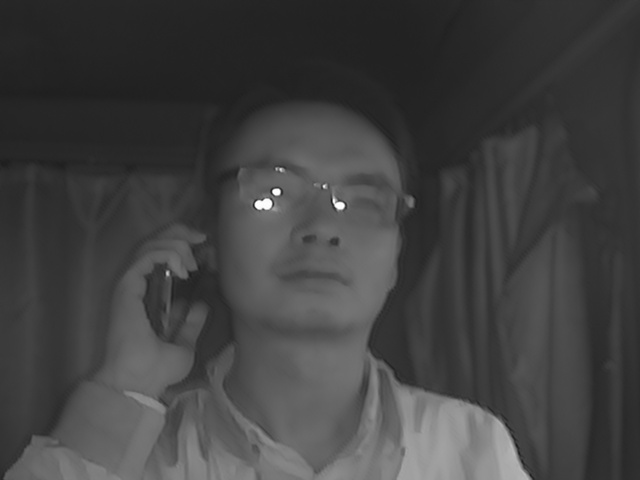hand: (106, 219, 211, 384)
